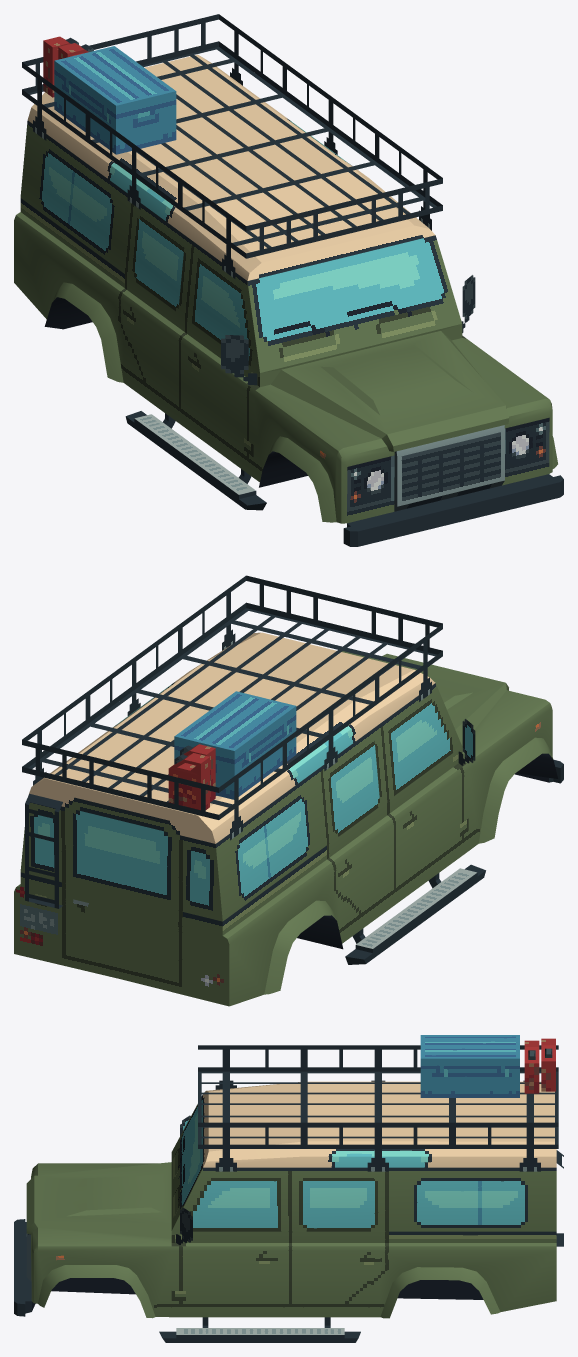
File: landroverDefender110.glb
3 views of the same model, one above another, from view 1: azimuth 30°, elevation 25°; view 2: azimuth 150°, elevation 25°; view 3: azimuth 270°, elevation 25° (orthographic). The views are drawn at different scales.
Visible parts, largest first — view 1: BodyDefender110, MiscRoof, MiscRoofCrate, MiscRoofCan2; view 2: BodyDefender110, MiscRoof, MiscRoofCrate, MiscLadder, MiscRoofCan2, MiscRoofCan; view 3: BodyDefender110, MiscRoof, MiscRoofCrate, MiscRoofCan, MiscRoofCan2.
Part boxes in pixels (left/top/right/bottom): BodyDefender110: left=14, top=54, right=563, bottom=546; MiscRoof: left=22, top=14, right=442, bottom=278; MiscRoofCrate: left=54, top=46, right=176, bottom=154; MiscRoofCan2: left=43, top=36, right=78, bottom=97; BodyDefender110: left=14, top=632, right=563, bottom=1006; MiscRoof: left=22, top=575, right=442, bottom=840; MiscRoofCrate: left=174, top=691, right=296, bottom=799; MiscLadder: left=25, top=793, right=62, bottom=908; MiscRoofCan2: left=168, top=753, right=209, bottom=810; MiscRoofCan: left=180, top=744, right=215, bottom=802; BodyDefender110: left=14, top=1081, right=556, bottom=1342; MiscRoof: left=198, top=1045, right=558, bottom=1171; MiscRoofCrate: left=420, top=1035, right=519, bottom=1097; MiscRoofCan: left=524, top=1040, right=539, bottom=1093; MiscRoofCan2: left=541, top=1038, right=555, bottom=1091.
Size of the model in its own units: 1.9 by 2.05 by 4.43.
Materials: 1 (1 with a texture image).
